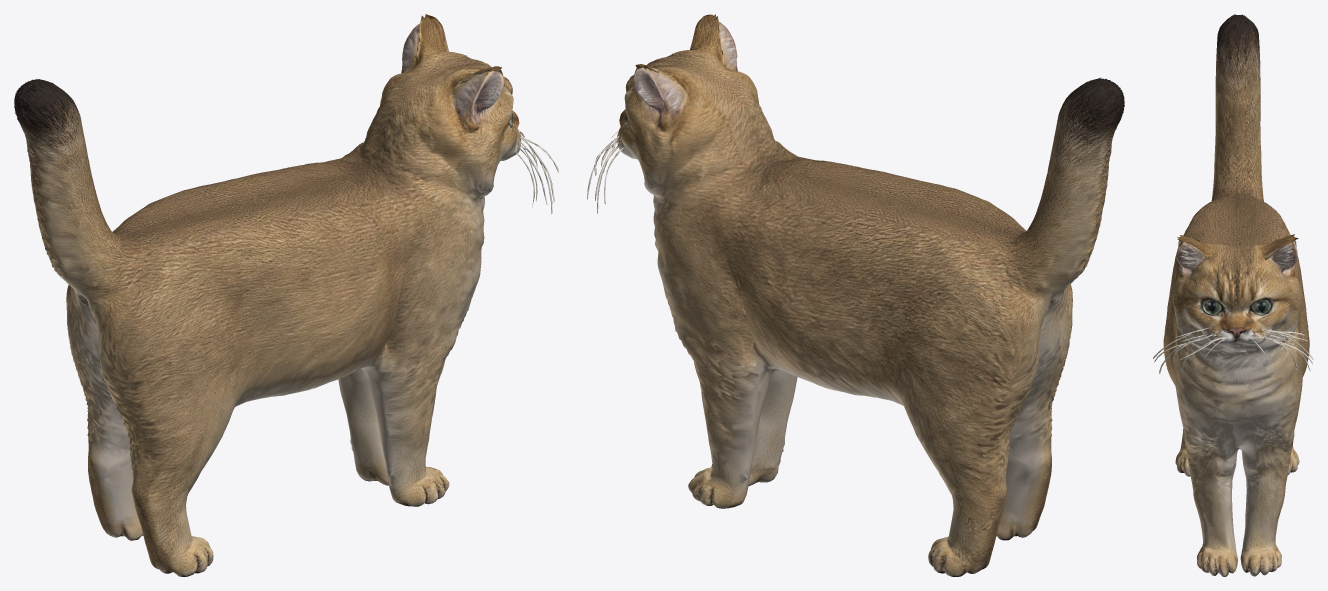
The model's file is SWEETCORN.glb.
The picture shows the model from 3 angles, left to right: view 1: azimuth 30°, elevation 25°; view 2: azimuth 150°, elevation 25°; view 3: azimuth 270°, elevation 25°; orthographic projection. The views are drawn at different scales.
Visible parts, largest first — view 1: tripo_node_cc3ce785-c8f3-470b-8a7b-1d639890e576; view 2: tripo_node_cc3ce785-c8f3-470b-8a7b-1d639890e576; view 3: tripo_node_cc3ce785-c8f3-470b-8a7b-1d639890e576.
Boxes of the visible parts, x1,y1,x2,y2 form: tripo_node_cc3ce785-c8f3-470b-8a7b-1d639890e576: (14,14,558,576); tripo_node_cc3ce785-c8f3-470b-8a7b-1d639890e576: (587,14,1124,576); tripo_node_cc3ce785-c8f3-470b-8a7b-1d639890e576: (1153,14,1313,576).
Size of the model in its own units: 1.07 by 0.9996 by 0.3596.
1 material, 1 textured.
